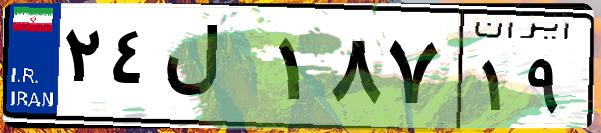1: (270, 28, 330, 110), (475, 38, 525, 113)
2: (57, 26, 110, 100)
4: (110, 28, 158, 98)
7: (385, 28, 445, 110)
8: (330, 28, 385, 110)
9: (525, 38, 570, 115)
ل: (158, 20, 270, 120)
